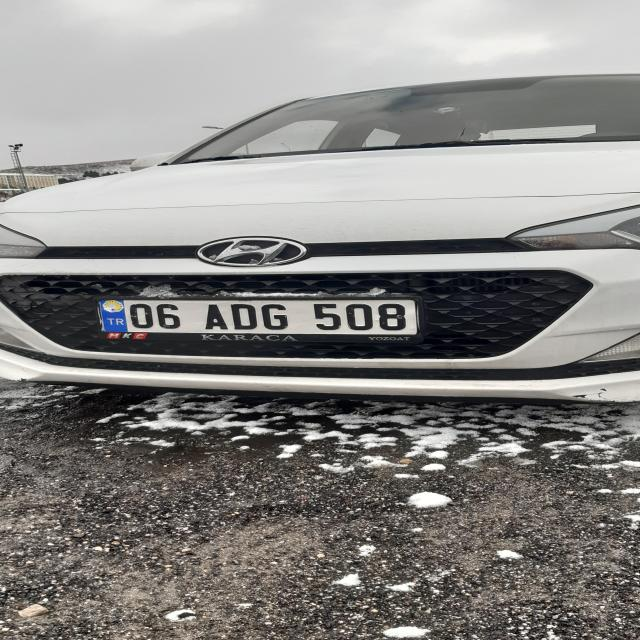license_plate: (99, 300, 418, 334)
